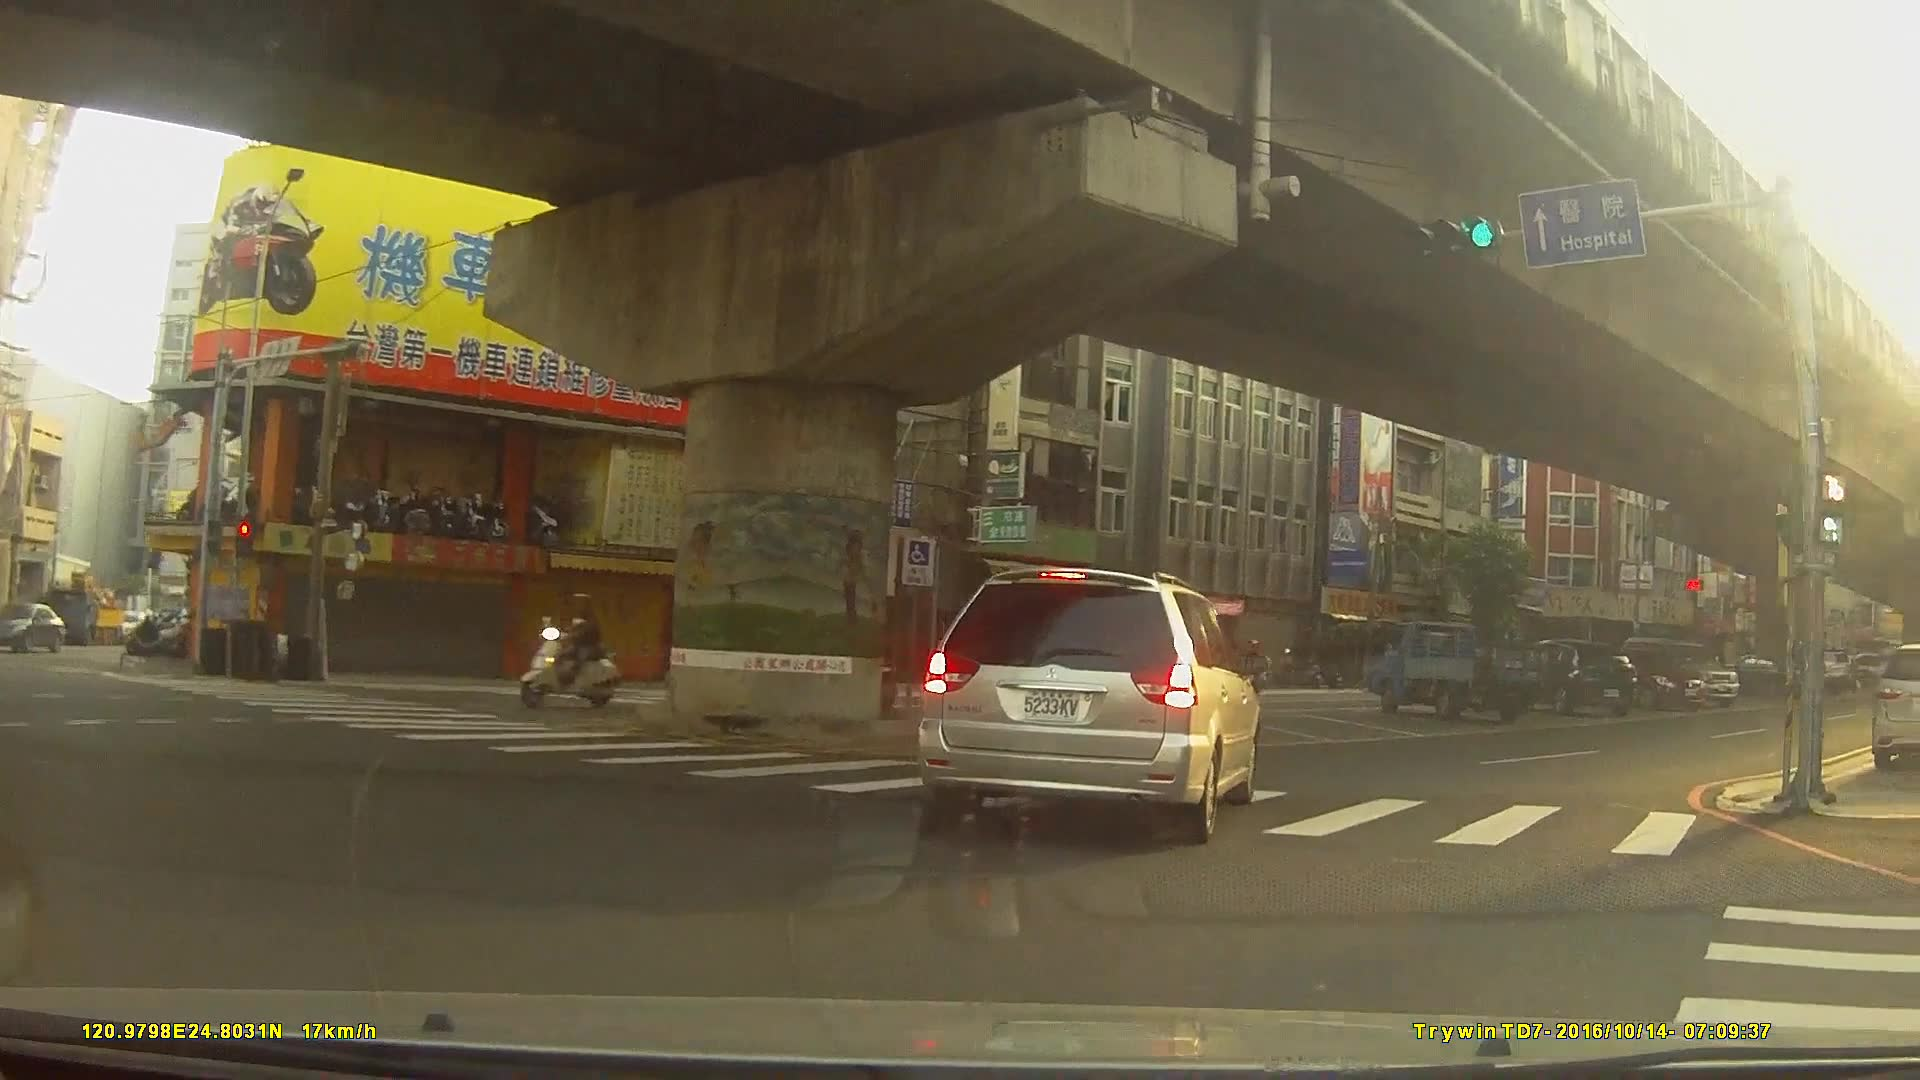rider: (523, 591, 623, 706)
vehicle: (914, 563, 1262, 843), (1360, 618, 1545, 722), (1504, 636, 1637, 717), (1593, 645, 1708, 710), (1870, 641, 1920, 770), (0, 598, 65, 653), (1718, 653, 1792, 693)
